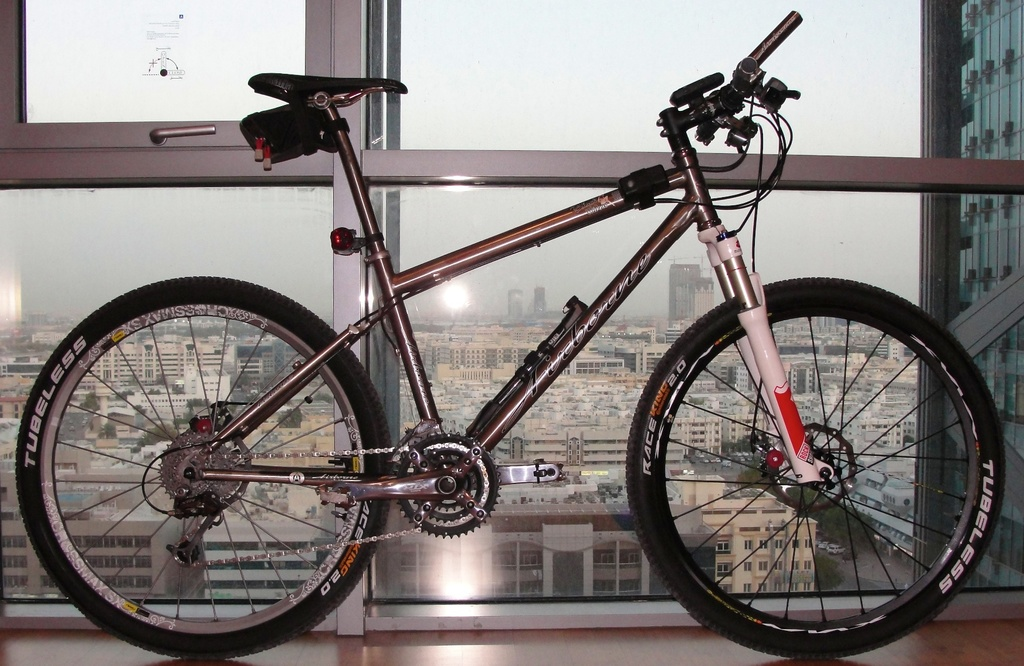bicycle: (13, 6, 1005, 657)
